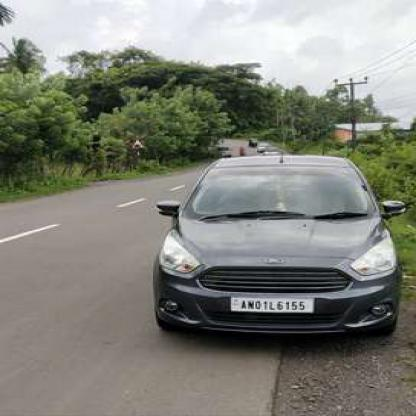license_plate: (228, 296, 312, 310)
